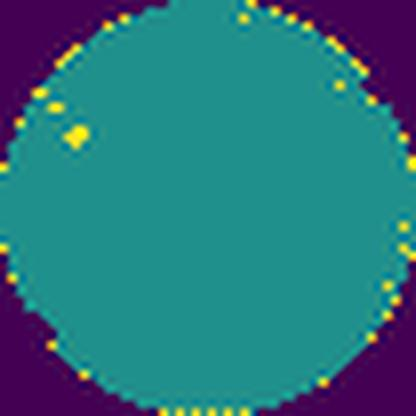Loc: (58, 122, 94, 149)
